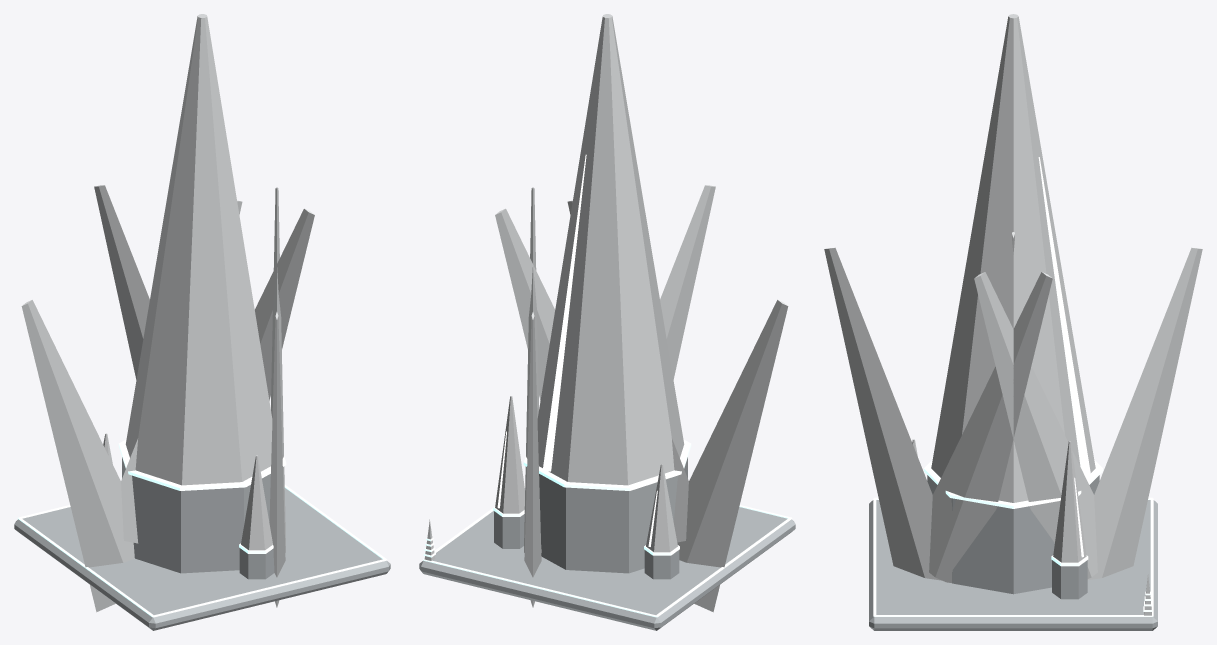
Rendered from zone_high_1_t4.glb.
3 views of the same model, side by side, from view 1: azimuth 30°, elevation 25°; view 2: azimuth 150°, elevation 25°; view 3: azimuth 270°, elevation 25° (orthographic). The views are drawn at different scales.
Parts seen in each view (by area): view 1: zone_high_1_t4, detail; view 2: zone_high_1_t4, detail; view 3: zone_high_1_t4, detail.
Boxes of the visible parts, box(x1,y1,x2,y2) form: zone_high_1_t4: box(14, 14, 390, 630); detail: box(17, 484, 387, 617); zone_high_1_t4: box(419, 14, 795, 630); detail: box(422, 484, 792, 617); zone_high_1_t4: box(824, 14, 1202, 630); detail: box(873, 497, 1153, 616).
Size of the model in its own units: 34.31 by 61.97 by 36.01.
